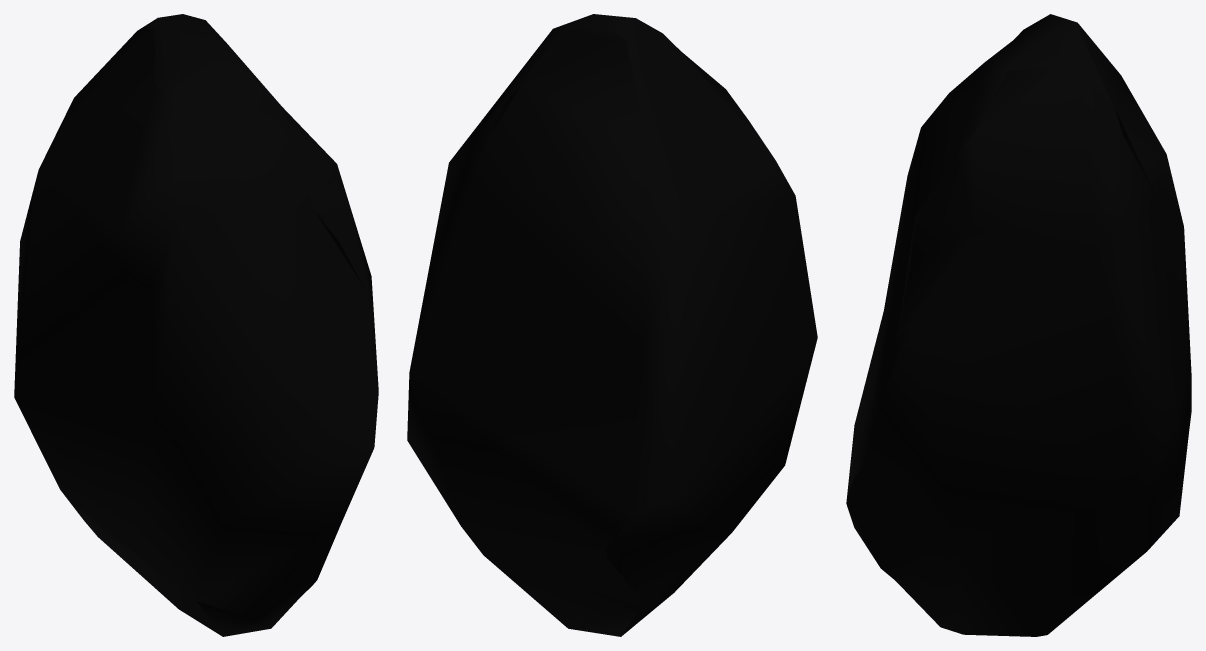
File: Tribute_Amber.fbx
The picture shows the model from 3 angles, left to right: view 1: azimuth 30°, elevation 25°; view 2: azimuth 150°, elevation 25°; view 3: azimuth 270°, elevation 25°; orthographic projection. The views are drawn at different scales.
Parts seen in each view (by area): view 1: amber_stone1; view 2: amber_stone1; view 3: amber_stone1.
Part boxes in pixels (<box>): amber_stone1: <box>14,14,378,636</box>; amber_stone1: <box>407,14,817,636</box>; amber_stone1: <box>846,14,1191,636</box>.
Size of the model in its own units: 0.9129 by 2 by 1.06.
